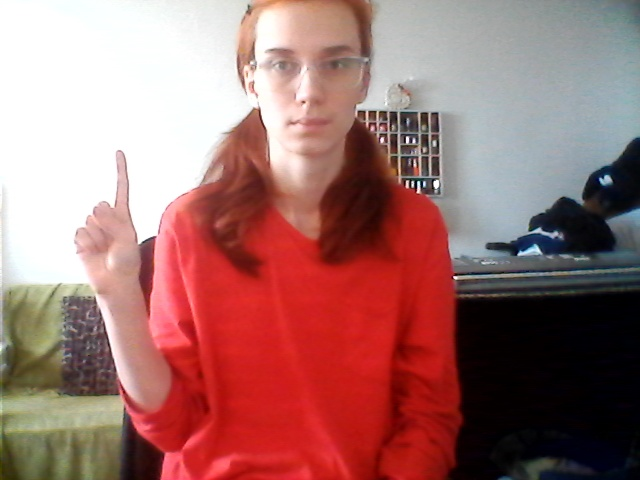i: (60, 145, 162, 300)
